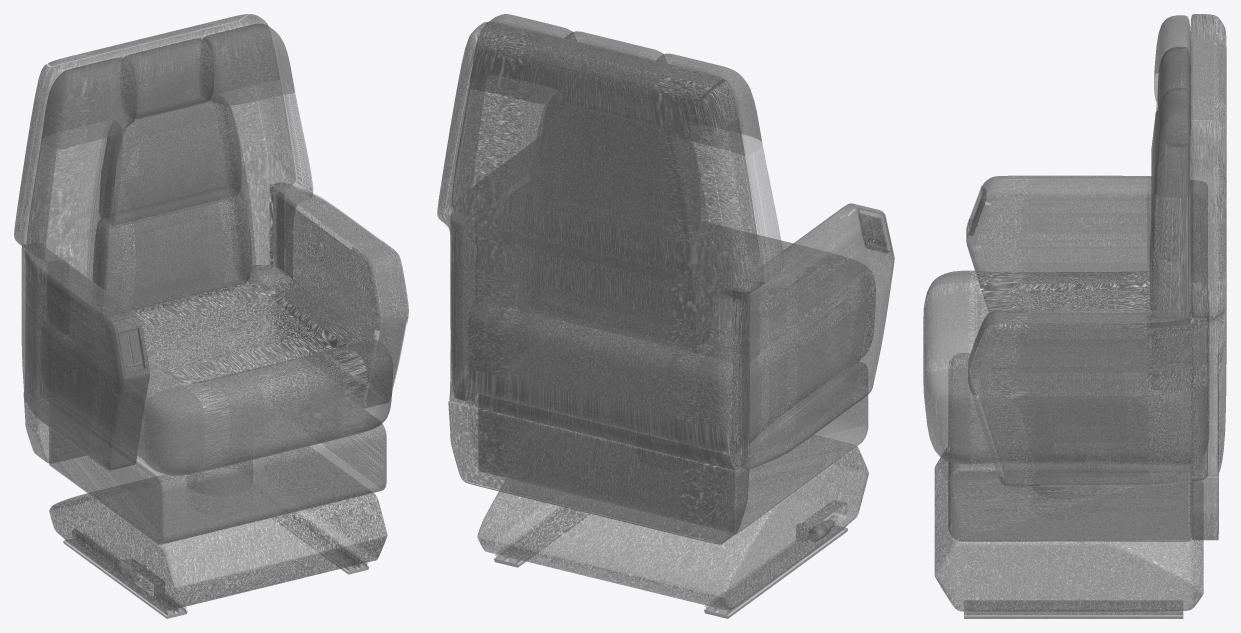
File: seat.glb
3 renders of one model, left to right at view 1: azimuth 30°, elevation 25°; view 2: azimuth 150°, elevation 25°; view 3: azimuth 270°, elevation 25°, orthographic. The views are drawn at different scales.
Parts seen in each view (by area): view 1: MB___head_side_cushion, foot_P_1, rail, rotation, cap, foot_P; view 2: MB___head_side_cushion, foot_P_1, rail, foot_P; view 3: MB___head_side_cushion, foot_P_1, rail, rotation.
Part boxes in pixels (box(x1,y1,x2,y2)): MB___head_side_cushion: box(14, 14, 408, 544); foot_P_1: box(49, 446, 387, 611); rail: box(63, 512, 368, 618); rotation: box(186, 452, 252, 495); cap: box(118, 327, 147, 374); foot_P: box(123, 558, 165, 595); MB___head_side_cushion: box(437, 14, 894, 544); foot_P_1: box(477, 435, 868, 610); rail: box(494, 498, 847, 618); foot_P: box(796, 500, 845, 543); MB___head_side_cushion: box(923, 14, 1226, 541); foot_P_1: box(934, 447, 1203, 611); rail: box(964, 509, 1183, 618); rotation: box(1031, 469, 1100, 501).
Bounding box in the file's own units: 10.07 × 15.61 × 8.55.
2 materials, 2 textured.
